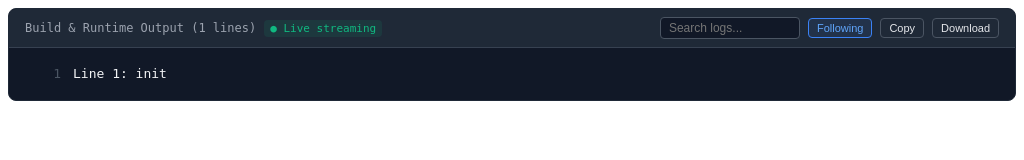
Scenario: LogViewer features › supports pause/follow toggle and download button
Click the button with aria-label "pause log auto-scroll" at (840, 28), box [808, 18, 872, 38]
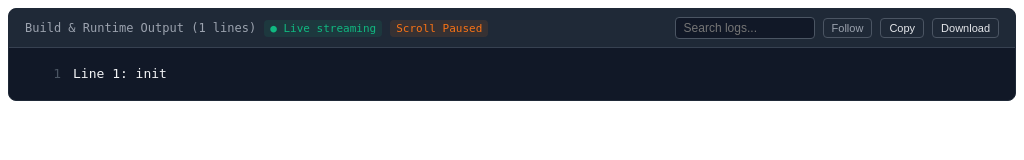
Expected: the button with aria-label "download logs as text file" is shown, [932, 18, 999, 38]
Expected: the text "Scroll Paused" is shown, [390, 20, 488, 36]
Expected: the button named "pause log auto-scroll" reads "Follow", [823, 18, 872, 38]
